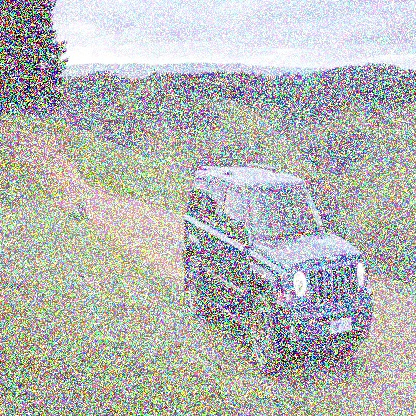Vehicle: (181, 159, 376, 376)
